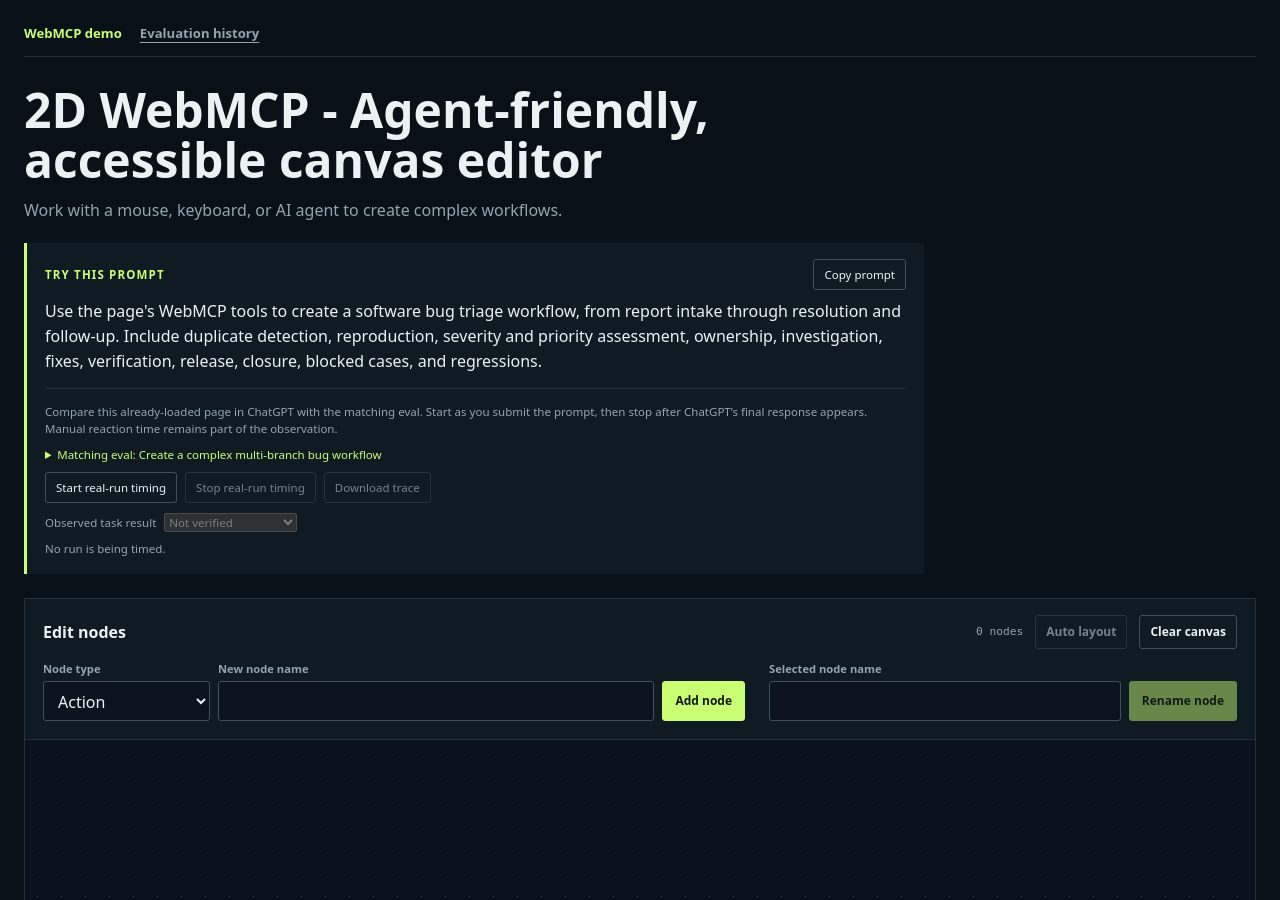
Test case: clear canvas › can clear an edge-only hydrated canvas
The width and height of the screenshot is (1280, 900).
Click the button "Clear canvas": (1188, 632) [1139,615,1237,649]
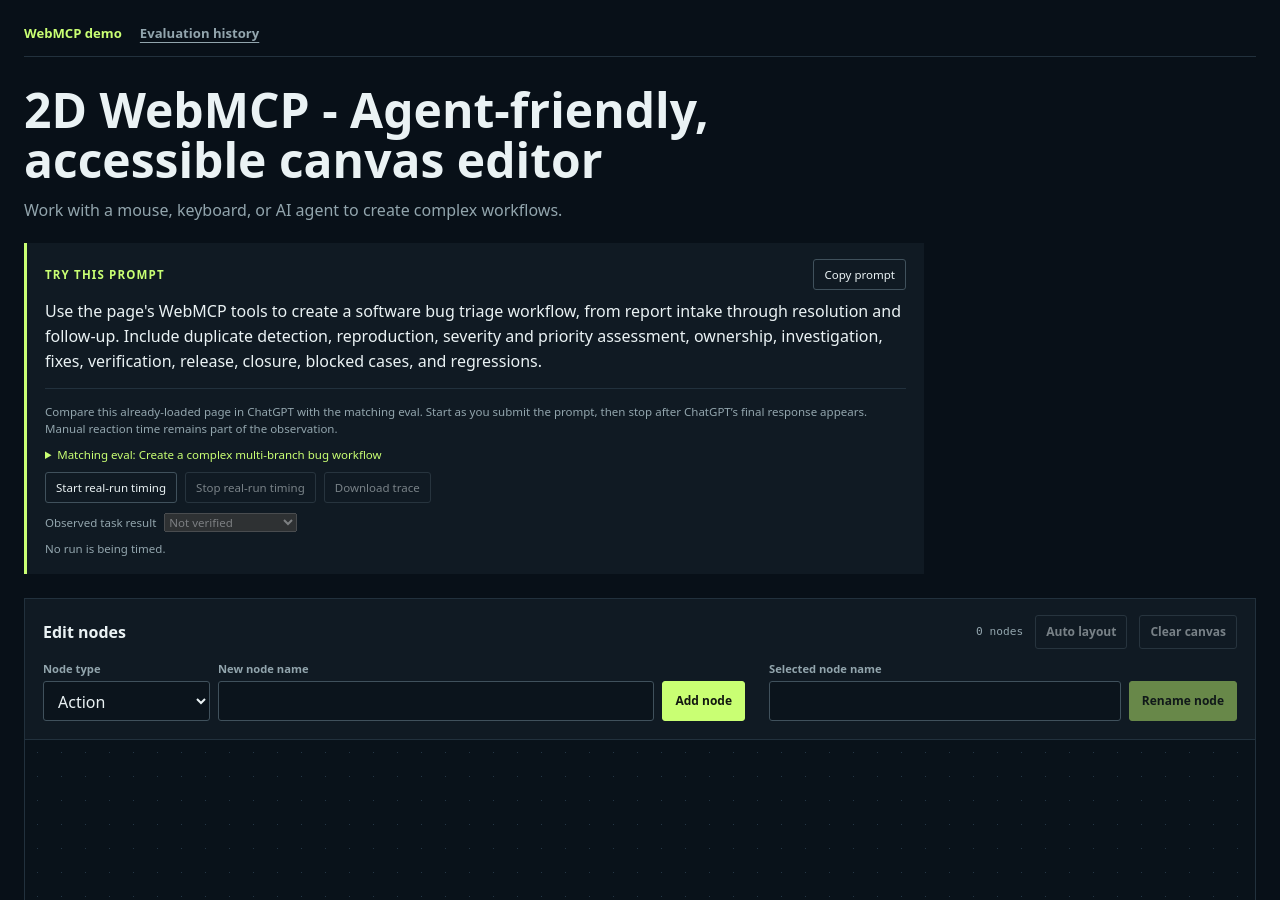
Now the button "Clear canvas" is disabled, box [1139,615,1237,649]
